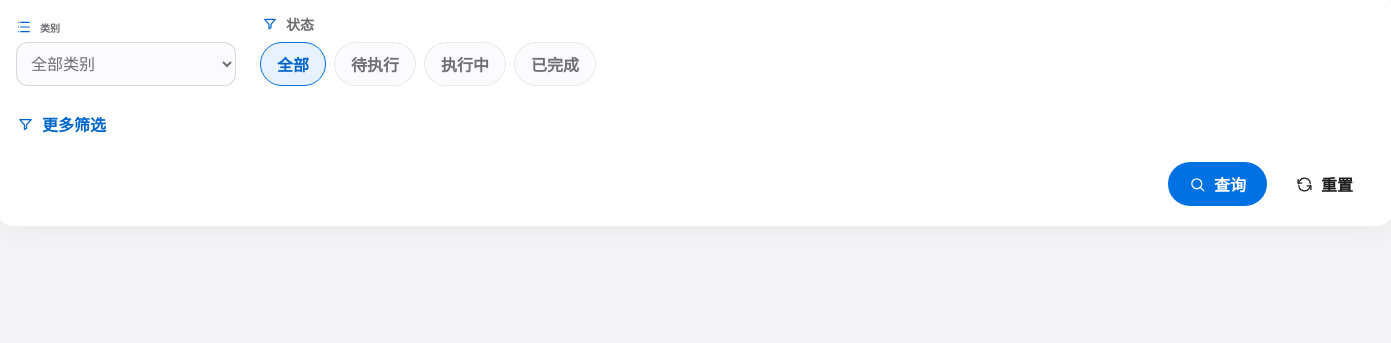
Test: TaskFilters › keeps common filters visible and discloses advanced filters accessibly
expect the element with test id "common-task-filters" shows "类别": met, box [40,22,60,34]
expect the element with test id "common-task-filters" shows "状态": met, box [286,16,314,33]
Click the 5th button: x=62, y=124 [16,102,107,146]
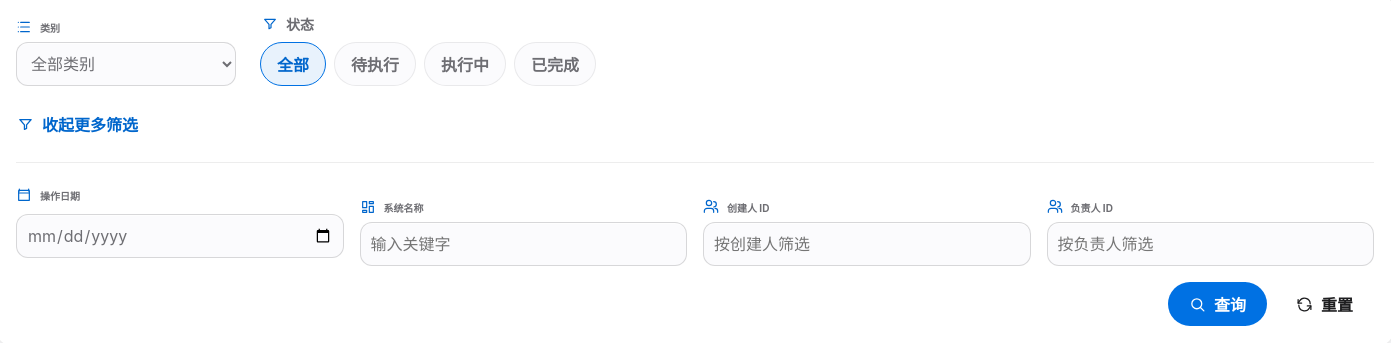
expect the 5th button is expanded: met, box [16,102,139,146]
expect the element with test id "advanced-task-filters" shows "系统名称": met, box [384,202,424,214]
